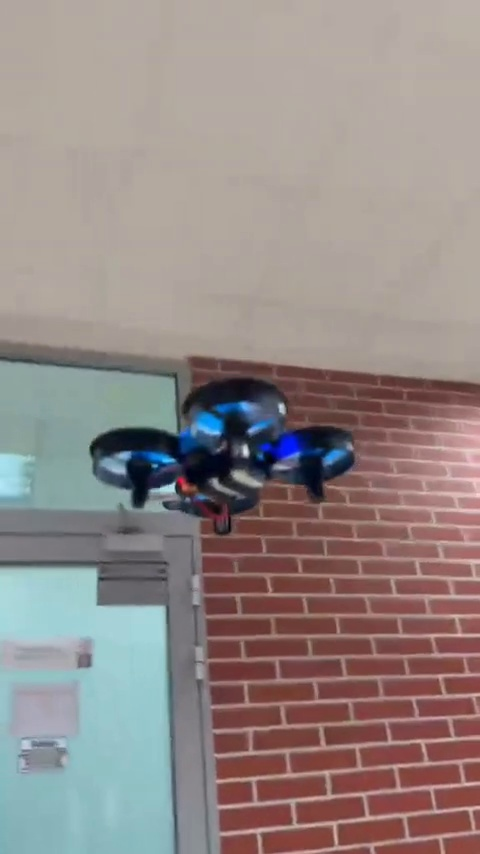drone: (86, 373, 360, 542)
